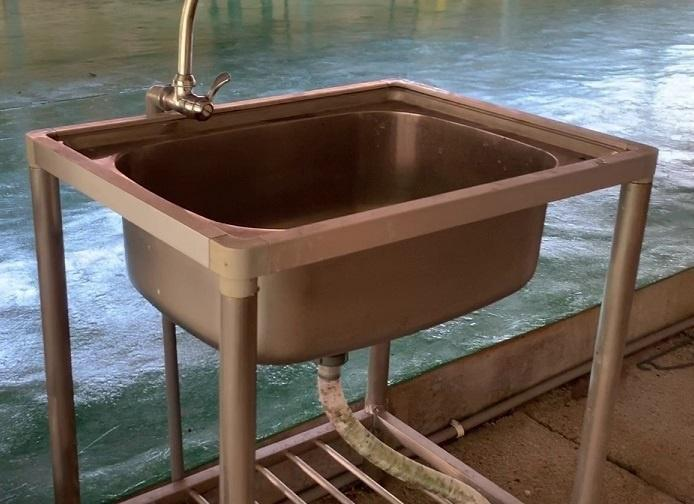Lavaplatos: (34, 13, 667, 400)
